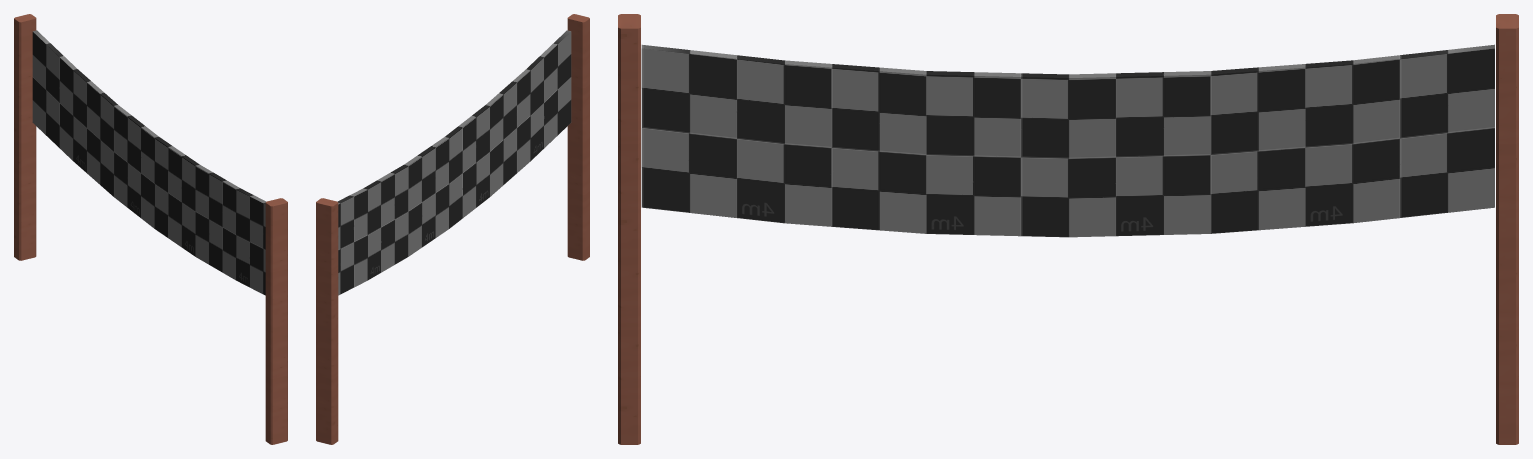
File: FinishLine.FBX
The picture shows the model from 3 angles, left to right: view 1: azimuth 30°, elevation 25°; view 2: azimuth 150°, elevation 25°; view 3: azimuth 270°, elevation 25°; orthographic projection. The views are drawn at different scales.
Visible parts, largest first — view 1: Finishline; view 2: Finishline; view 3: Finishline.
Part boxes in pixels (x1,y1,x2,y2): Finishline: [14, 14, 287, 444]; Finishline: [316, 14, 589, 444]; Finishline: [618, 14, 1518, 444].
Bounding box in the file's own units: 68.17 × 894 × 1753.
Materials: 2 (2 with a texture image).
